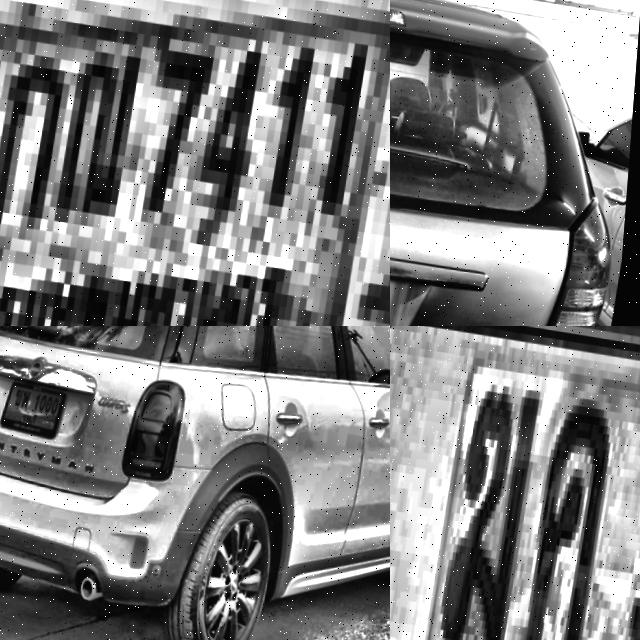license-plate: (0, 0, 390, 326), (390, 326, 640, 640), (4, 376, 73, 433)
